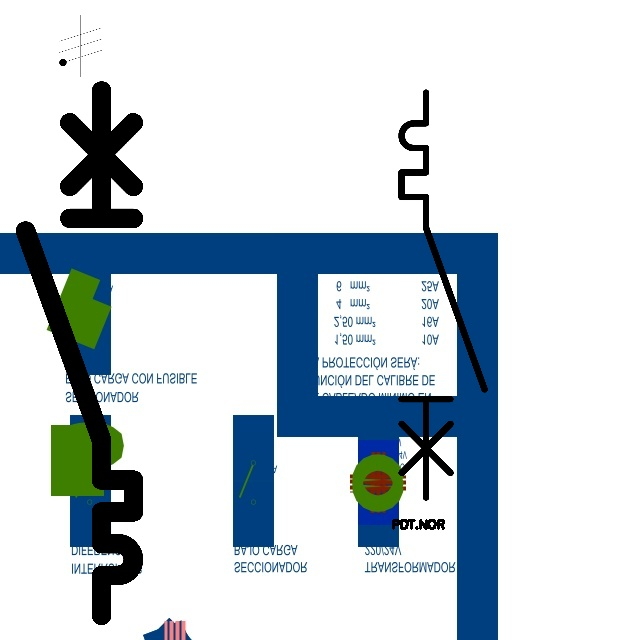interruptor_termomagnetico: (12, 77, 147, 629), (391, 82, 495, 508)
